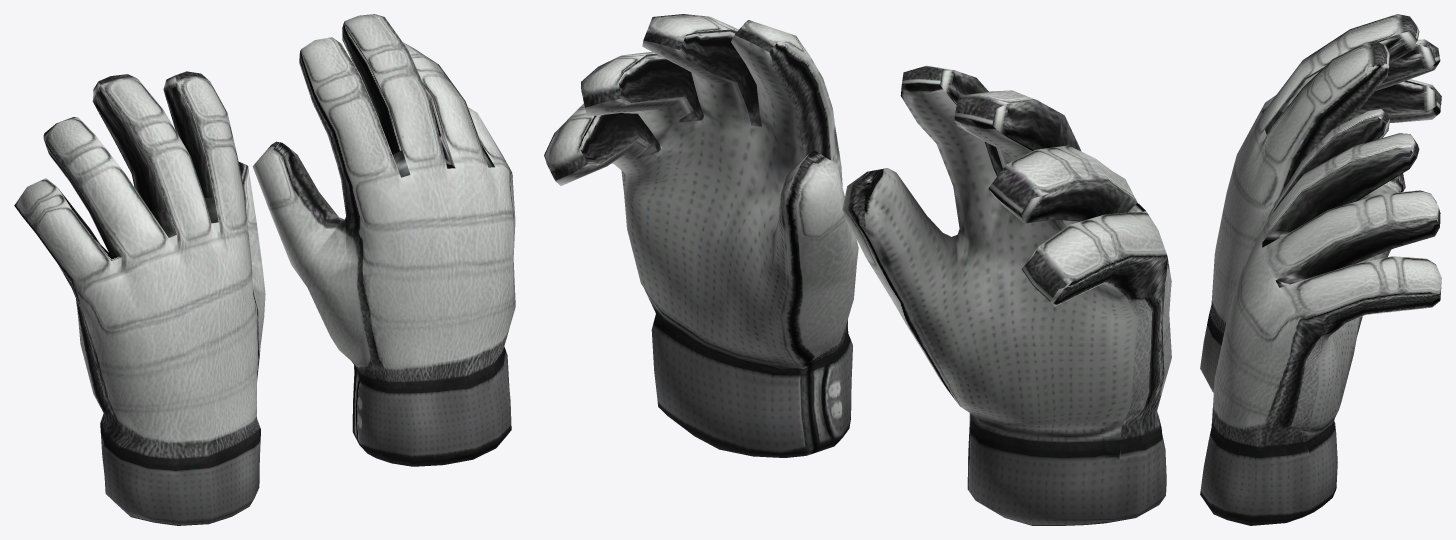
Rendered from generic_Gloves_01.FBX.
3 renders of one model, left to right at view 1: azimuth 30°, elevation 25°; view 2: azimuth 150°, elevation 25°; view 3: azimuth 270°, elevation 25°, orthographic. The views are drawn at different scales.
Parts seen in each view (by area): view 1: generic_Gloves_02; view 2: generic_Gloves_02; view 3: generic_Gloves_02.
Part boxes in pixels (x1=…): generic_Gloves_02: x1=14, y1=14, x2=515, y2=525; generic_Gloves_02: x1=544, y1=14, x2=1171, y2=525; generic_Gloves_02: x1=1200, y1=14, x2=1441, y2=525.
Size of the model in its own units: 87.7 by 70.07 by 42.11.
